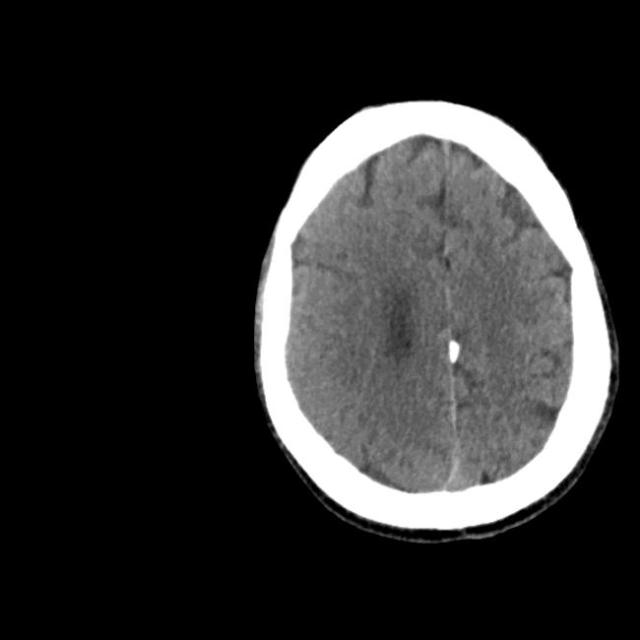lesion: (248, 96, 620, 544)
